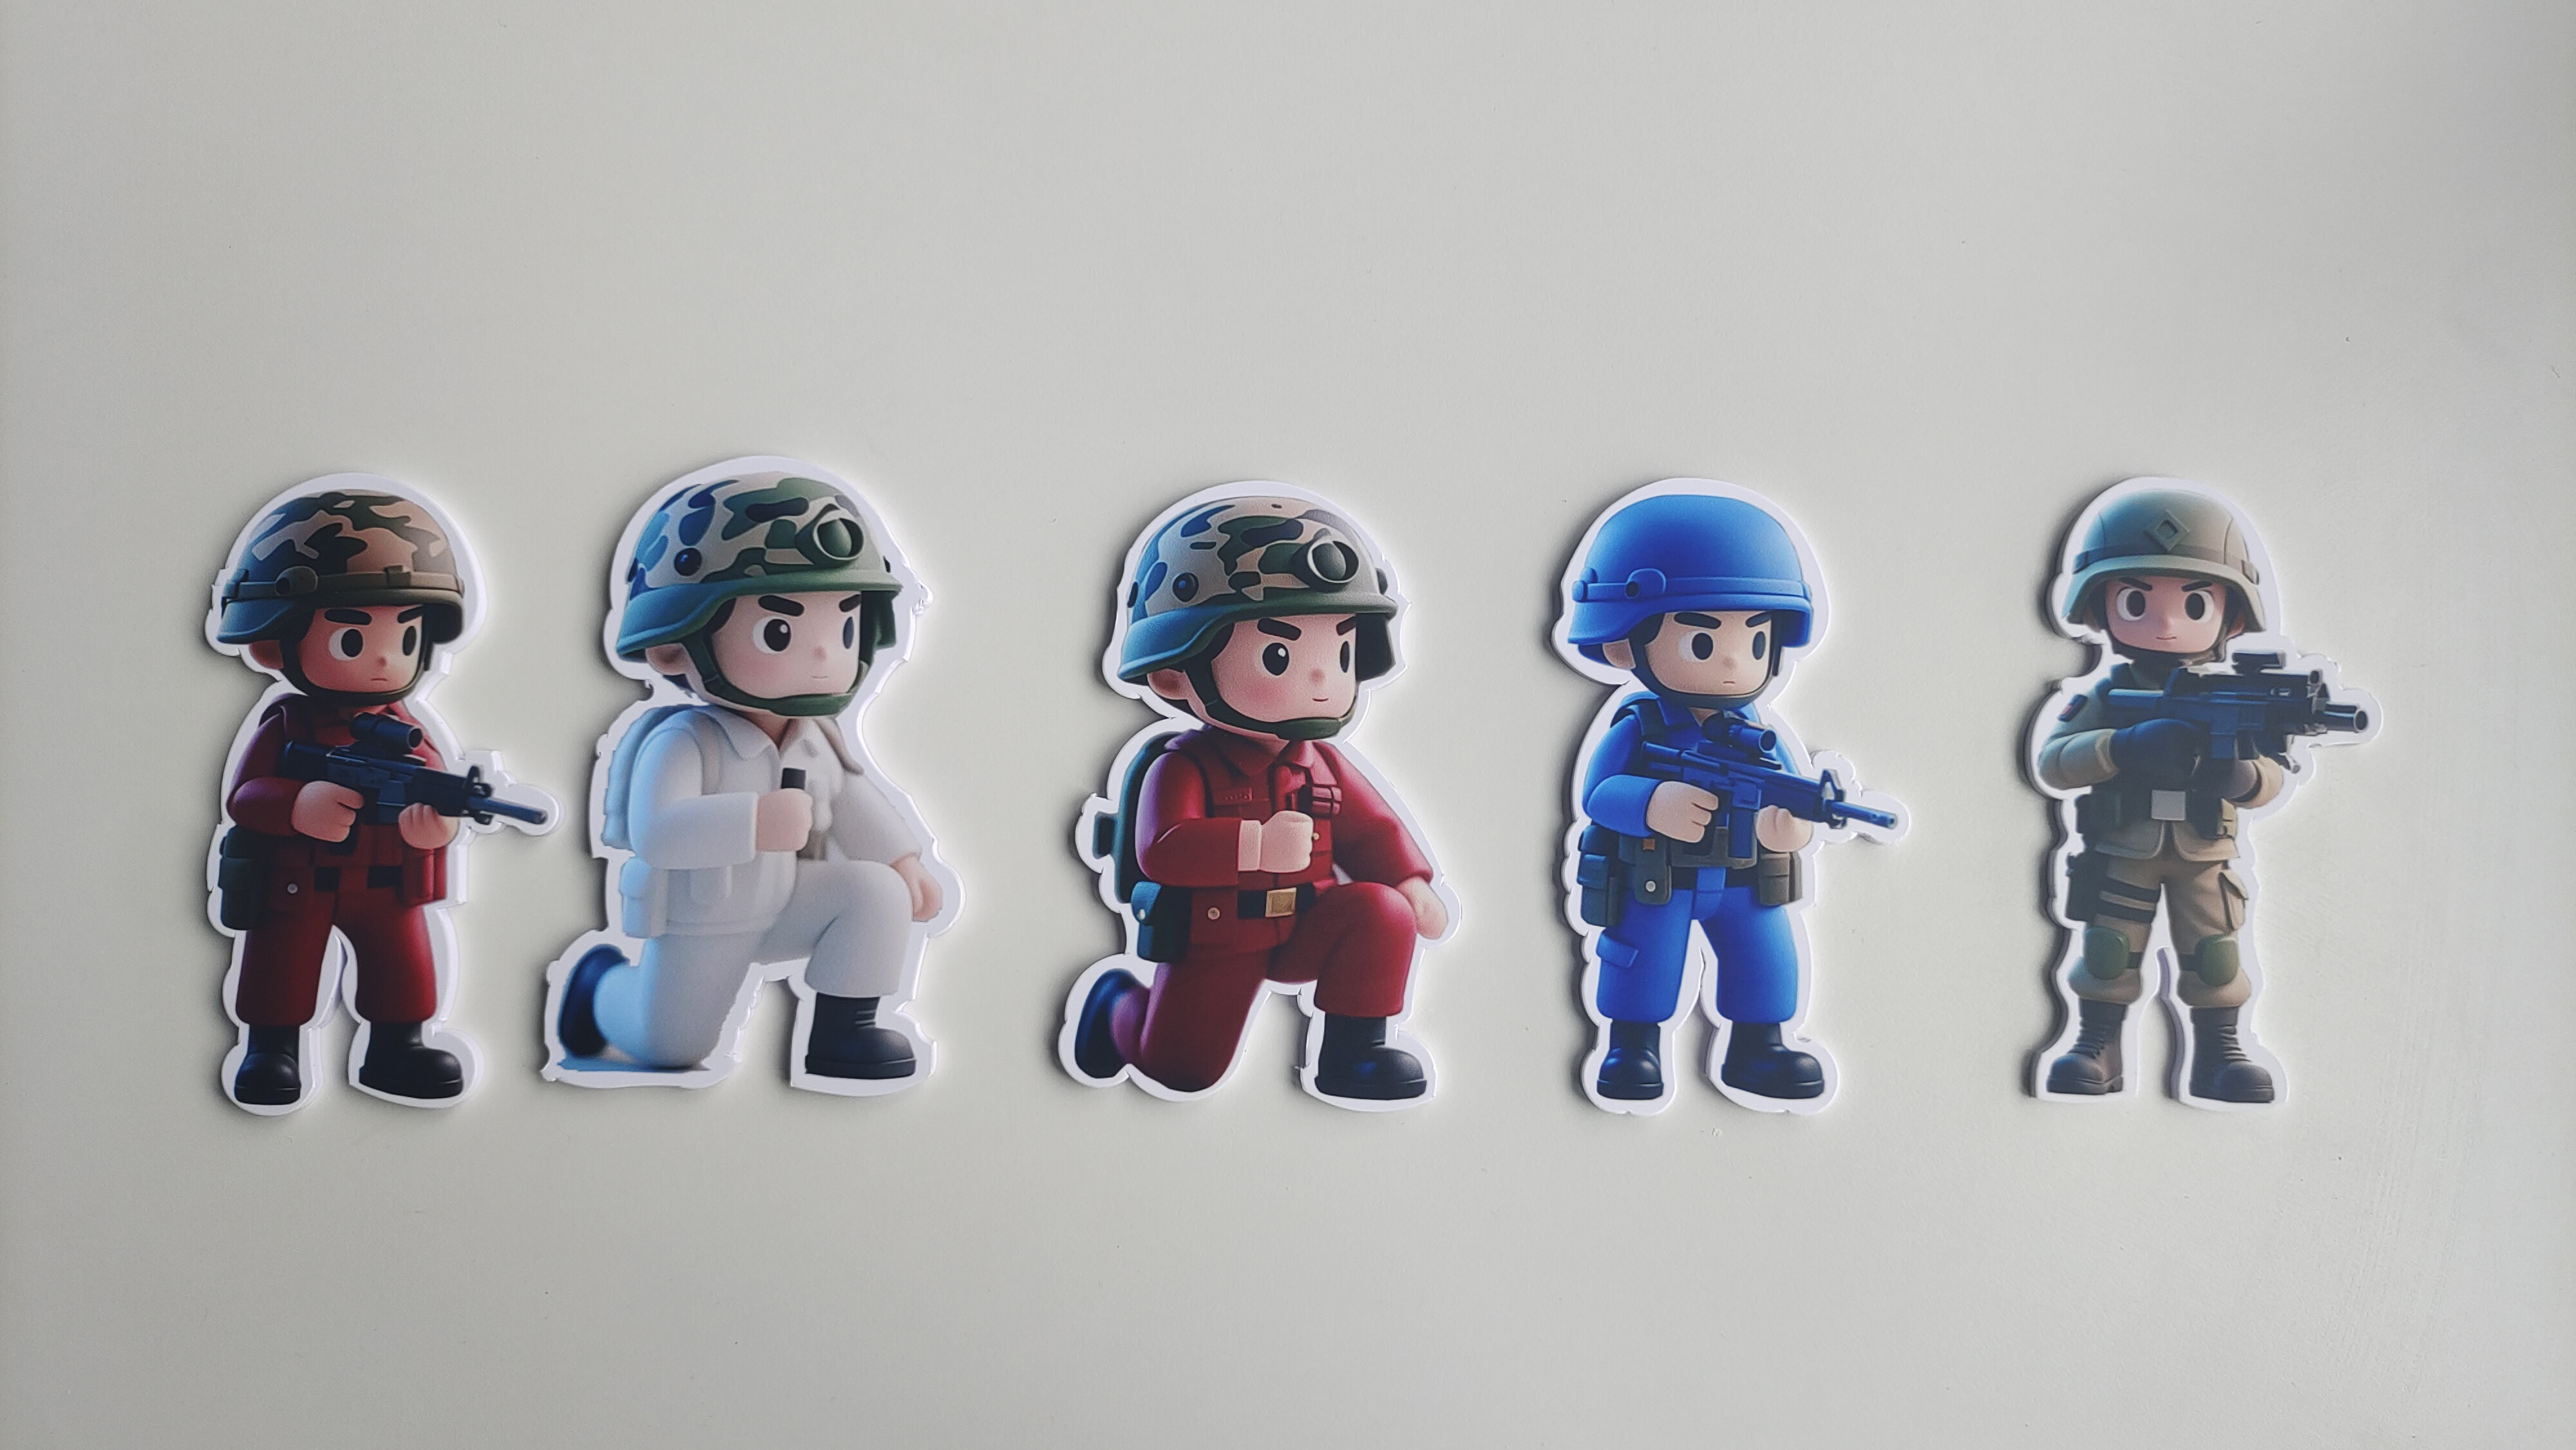enemy1: (1035, 725, 1465, 1110), (196, 702, 497, 1110)
enemy2: (1541, 709, 1851, 1116)
friend: (2010, 658, 2293, 1119)
hostage: (545, 716, 947, 1110)
